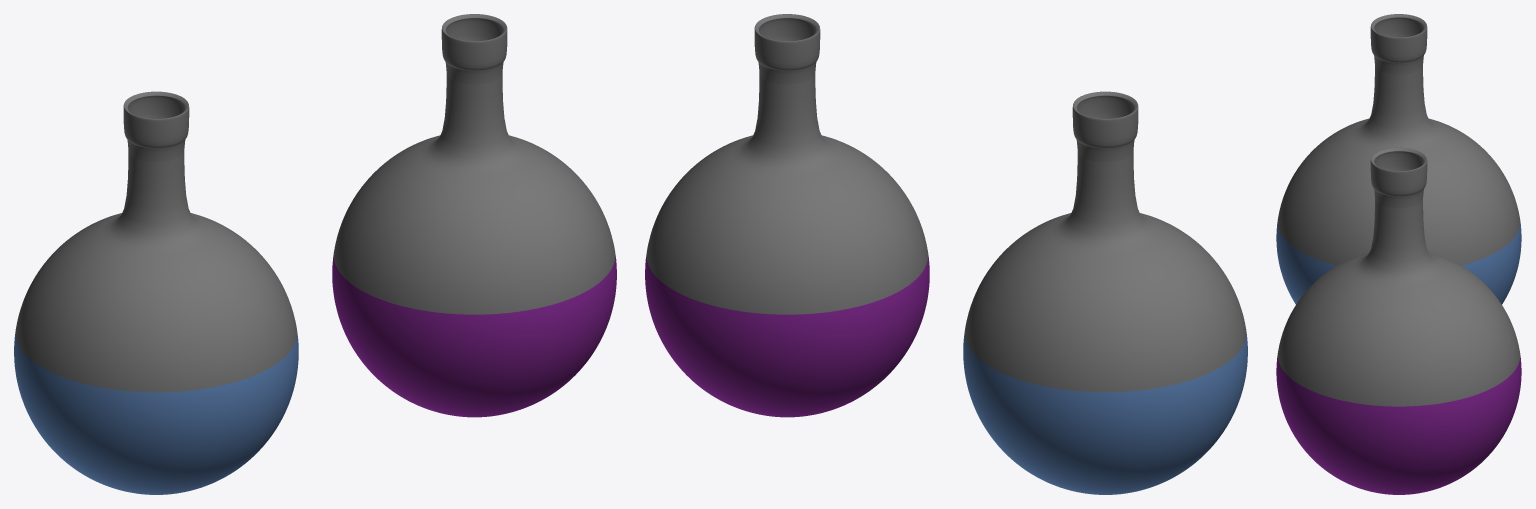
The model's file is r_flask.glb.
3 views of the same model, side by side, from view 1: azimuth 30°, elevation 25°; view 2: azimuth 150°, elevation 25°; view 3: azimuth 270°, elevation 25° (orthographic). The views are drawn at different scales.
Parts seen in each view (by area): view 1: Sphere, Sphere.001; view 2: Sphere, Sphere.001; view 3: Sphere.001, Sphere.
Boxes of the visible parts, box(x1,y1,x2,y2) form: Sphere: box(14, 91, 298, 494); Sphere.001: box(332, 14, 616, 417); Sphere: box(963, 91, 1247, 494); Sphere.001: box(645, 14, 929, 417); Sphere.001: box(1276, 147, 1521, 494); Sphere: box(1276, 14, 1521, 304).
Bounding box in the file's own units: 1.63 × 1.04 × 0.7139.
